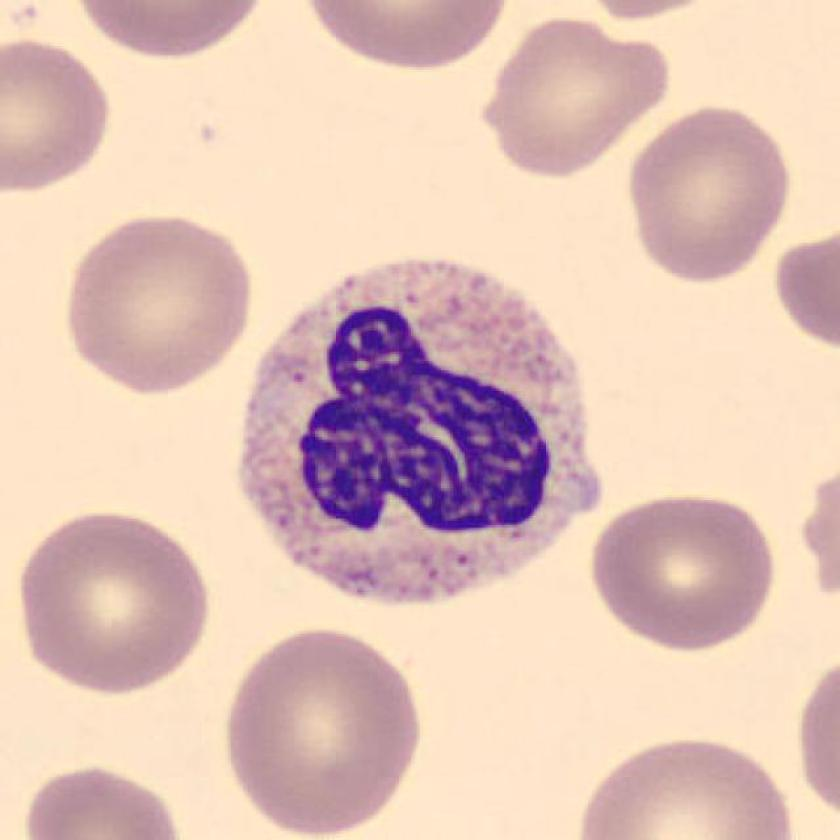neutrophil: (237, 262, 601, 606)
